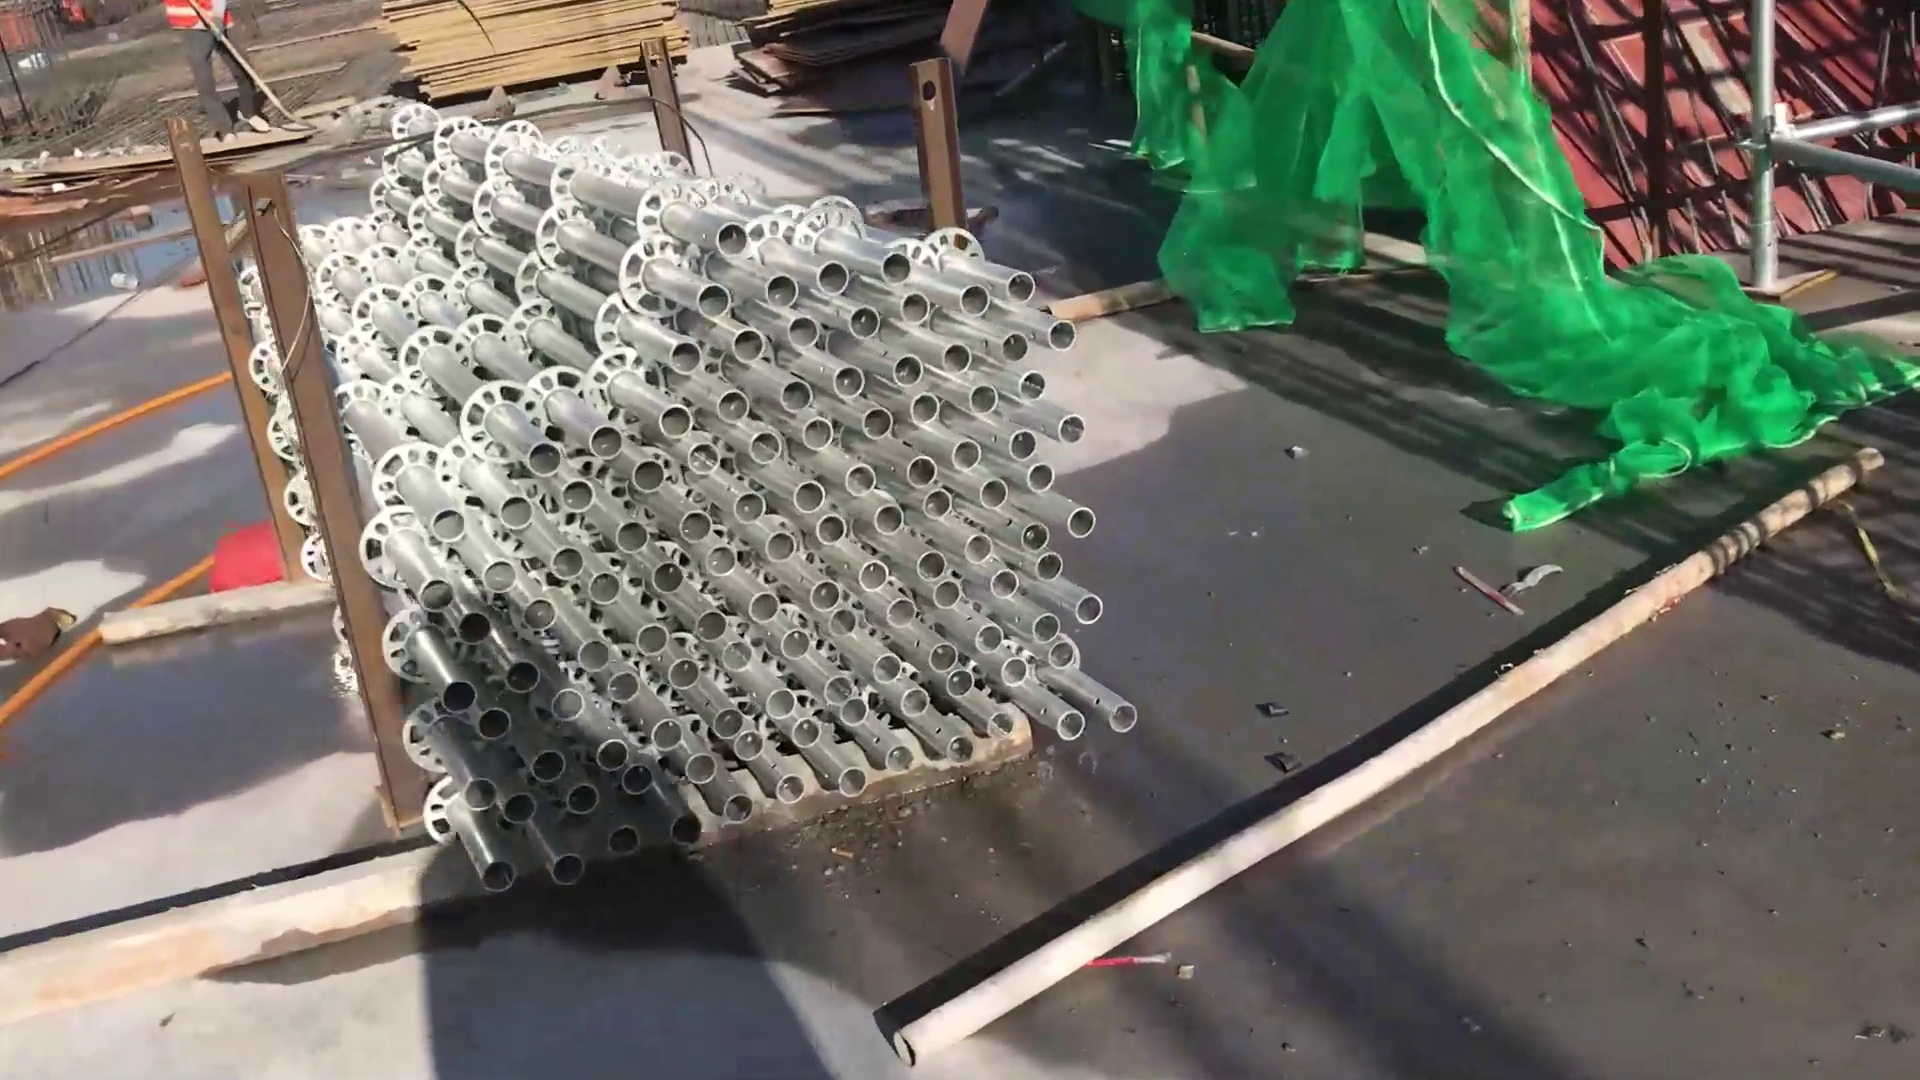board: (375, 1, 716, 123)
scaffold: (195, 65, 1295, 928)
